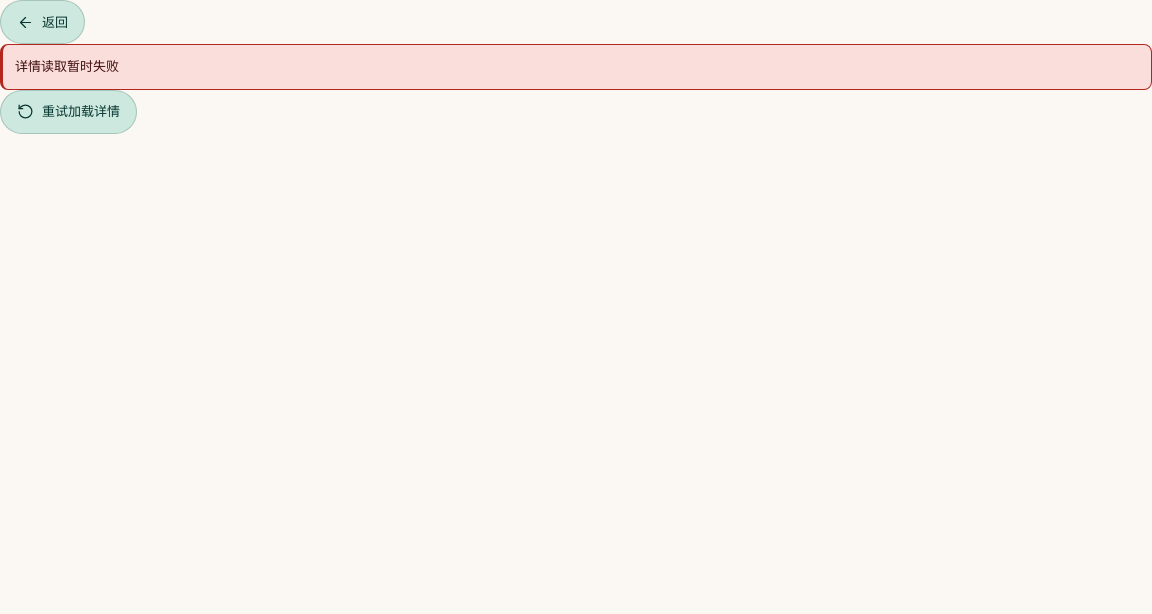
archive detail route › retries a failed metadata load without leaving the detail route
Expected: the message reads "详情读取暂时失败", [15, 58, 119, 74]
Click the button "重试加载详情".
click(68, 112)  # box [0, 90, 137, 134]
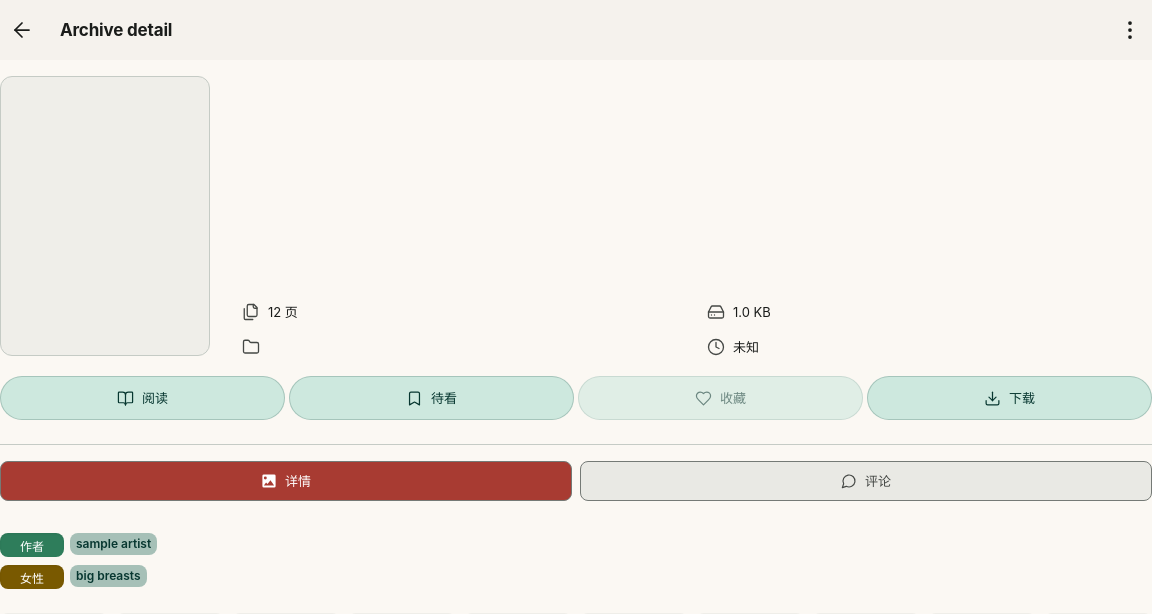
Result: the heading "Archive detail" is shown at [60, 20, 172, 40]
